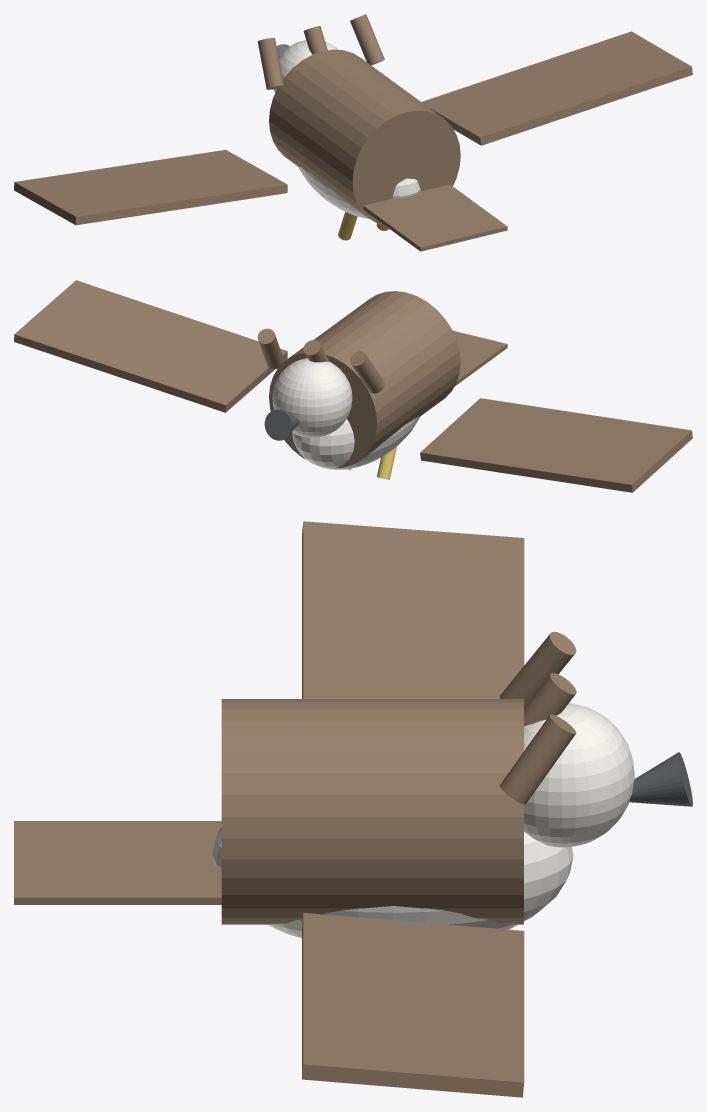
File: philippine_eagle.glb
3 renders of one model, top to bottom at view 1: azimuth 30°, elevation 25°; view 2: azimuth 150°, elevation 25°; view 3: azimuth 270°, elevation 25°, orthographic. The views are drawn at different scales.
Visible parts, largest first — view 1: Cylinder, Cube.001, Cube, Cube.002, Sphere, Cylinder.001, Cylinder.003, Sphere.001, Cylinder.002; view 2: Cube.001, Cube, Cylinder, Sphere.001, Sphere, Cube.002, Cylinder.001, Cone, Cylinder.003, Cylinder.002, Cylinder.004; view 3: Cylinder, Cube, Cube.001, Cube.002, Sphere.001, Sphere, Cylinder.003, Cylinder.001, Cone, Cylinder.002.
Part boxes in pixels (x1=…): Cylinder: x1=269, y1=49, x2=460, y2=225; Cube.001: x1=421, y1=31, x2=692, y2=145; Cube: x1=14, y1=149, x2=287, y2=225; Cube.002: x1=363, y1=184, x2=507, y2=251; Sphere: x1=298, y1=167, x2=420, y2=219; Cylinder.001: x1=257, y1=38, x2=283, y2=89; Cylinder.003: x1=350, y1=14, x2=384, y2=65; Sphere.001: x1=273, y1=40, x2=338, y2=92; Cylinder.002: x1=303, y1=26, x2=327, y2=54; Cube.001: x1=14, y1=280, x2=287, y2=412; Cube: x1=420, y1=398, x2=692, y2=492; Cylinder: x1=269, y1=291, x2=460, y2=468; Sphere.001: x1=272, y1=358, x2=352, y2=437; Sphere: x1=292, y1=416, x2=420, y2=469; Cube.002: x1=453, y1=330, x2=507, y2=386; Cylinder.001: x1=350, y1=351, x2=384, y2=393; Cone: x1=264, y1=409, x2=298, y2=440; Cylinder.003: x1=257, y1=328, x2=283, y2=368; Cylinder.002: x1=303, y1=340, x2=329, y2=362; Cylinder.004: x1=377, y1=446, x2=396, y2=479; Cylinder: x1=221, y1=699, x2=523, y2=924; Cube: x1=302, y1=521, x2=524, y2=698; Cube.001: x1=302, y1=912, x2=524, y2=1097; Cube.002: x1=14, y1=821, x2=221, y2=904; Sphere.001: x1=524, y1=703, x2=634, y2=847; Sphere: x1=212, y1=827, x2=573, y2=938; Cylinder.003: x1=500, y1=714, x2=576, y2=804; Cylinder.001: x1=500, y1=631, x2=576, y2=707; Cone: x1=629, y1=752, x2=692, y2=806; Cylinder.002: x1=524, y1=673, x2=576, y2=726.
Size of the model in its own units: 3.2 by 0.8473 by 1.68.
